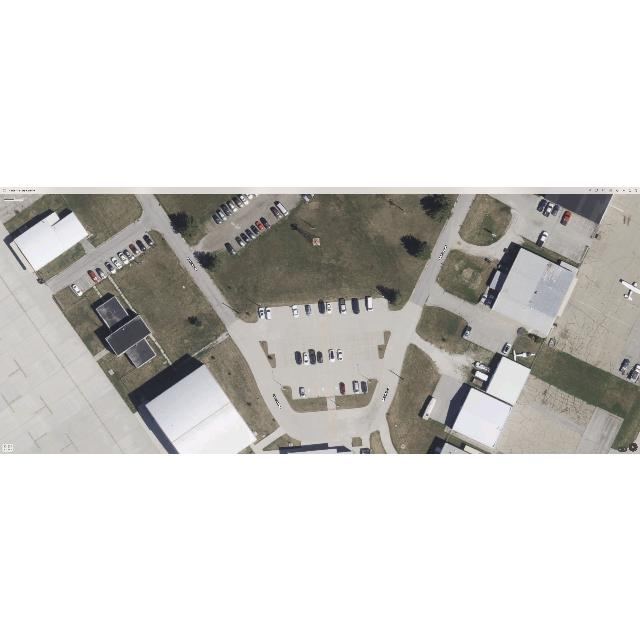Empty: (363, 345, 372, 361), (348, 333, 357, 347), (355, 332, 364, 346), (376, 331, 385, 345), (370, 345, 379, 359), (342, 333, 350, 348), (335, 334, 343, 349), (328, 334, 336, 349), (362, 331, 370, 346), (357, 346, 365, 361), (350, 346, 358, 361), (294, 337, 302, 352), (282, 352, 290, 367), (308, 336, 316, 351), (369, 331, 377, 345), (343, 347, 351, 361), (315, 336, 323, 350), (274, 339, 282, 353), (281, 339, 289, 353), (301, 337, 309, 351), (333, 383, 341, 395), (305, 385, 313, 397)
Parked: (338, 298, 348, 315), (351, 298, 361, 315), (365, 296, 374, 313), (318, 302, 327, 317), (295, 351, 304, 366), (302, 351, 311, 366), (308, 350, 317, 365), (304, 304, 313, 318), (291, 305, 300, 319), (315, 350, 324, 364), (258, 307, 266, 322), (352, 381, 361, 394), (359, 380, 368, 393), (325, 302, 334, 315), (336, 348, 344, 362), (265, 307, 273, 321), (298, 386, 306, 399), (339, 382, 347, 395), (330, 349, 337, 363), (319, 384, 327, 396)
